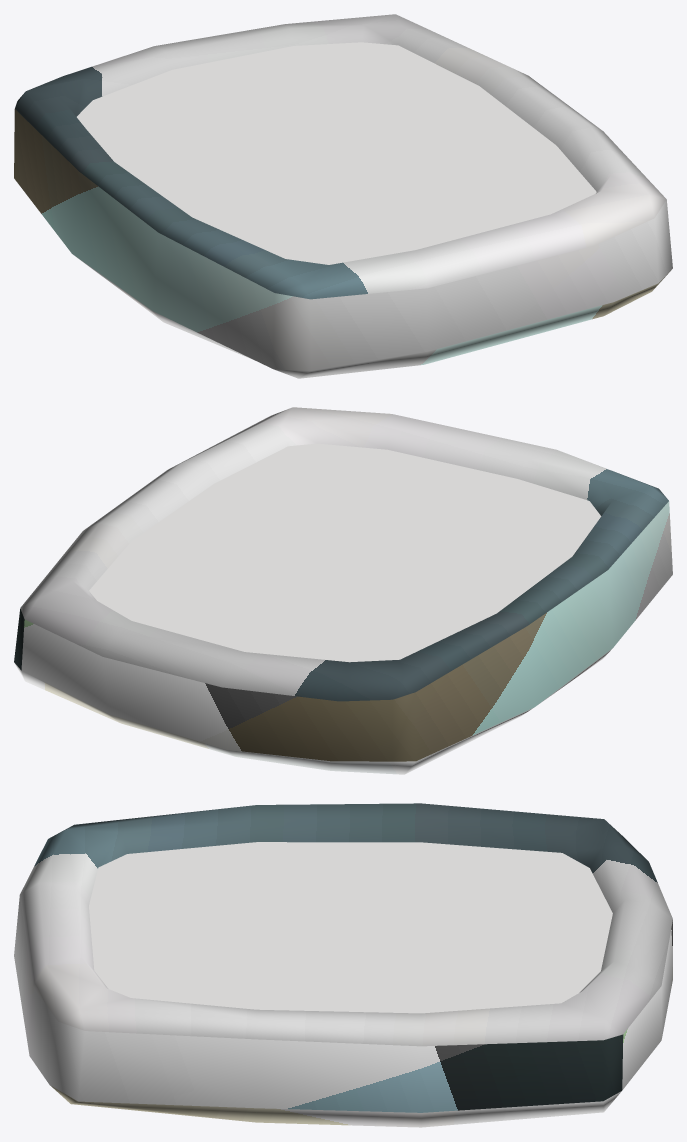
The model's file is P_StoneWallMirror.glb.
The picture shows the model from 3 angles, top to bottom: view 1: azimuth 30°, elevation 25°; view 2: azimuth 150°, elevation 25°; view 3: azimuth 270°, elevation 25°; orthographic projection. The views are drawn at different scales.
Visible parts, largest first — view 1: P_StoneWallMirror; view 2: P_StoneWallMirror; view 3: P_StoneWallMirror.
Part boxes in pixels (box(x1,y1,x2,y2)): P_StoneWallMirror: box(14, 14, 672, 378); P_StoneWallMirror: box(14, 407, 672, 774); P_StoneWallMirror: box(14, 803, 672, 1127).
Size of the model in its own units: 0.6705 by 0.1405 by 0.8081.
1 material, 1 textured.
